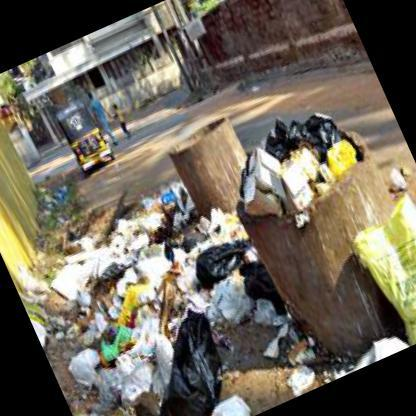Garbage: (106, 302, 252, 415), (227, 115, 336, 214), (70, 275, 170, 374), (170, 222, 249, 304), (253, 292, 297, 365), (147, 180, 184, 224), (101, 402, 144, 415)
